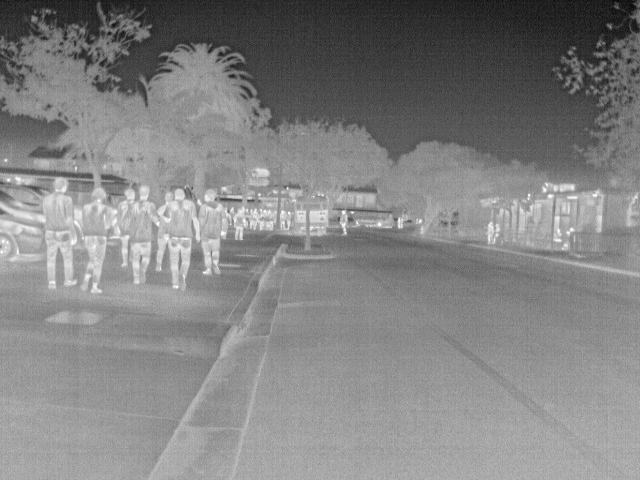car: (1, 204, 47, 264), (2, 179, 51, 212)
person: (80, 188, 118, 296), (44, 175, 80, 288), (163, 186, 201, 288), (125, 184, 159, 283), (194, 190, 229, 276), (118, 188, 139, 266), (153, 190, 176, 220), (232, 207, 250, 241), (337, 208, 350, 239), (563, 225, 579, 249), (277, 208, 291, 231), (484, 220, 496, 246), (553, 228, 567, 244)
